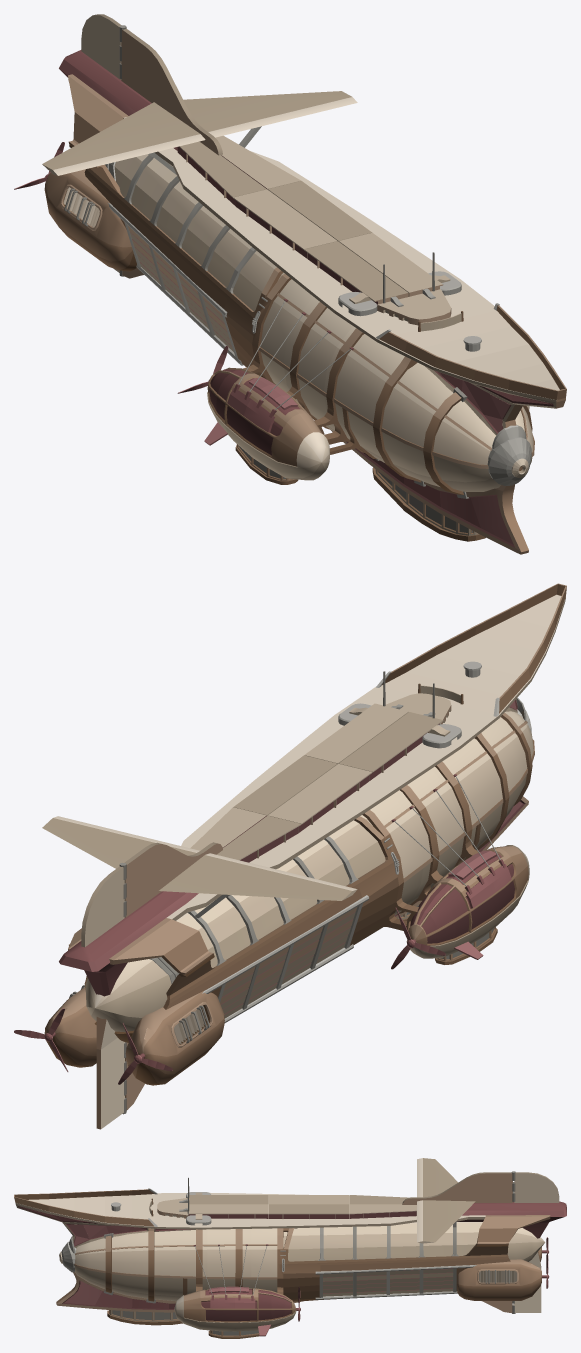
3 views of the same model, one above another, from view 1: azimuth 30°, elevation 25°; view 2: azimuth 150°, elevation 25°; view 3: azimuth 270°, elevation 25° (orthographic). The views are drawn at different scales.
Visible parts, largest first — view 1: polySurface315, polySurface404, pCube155, polySurface274, polySurface407, polySurface249, polySurface248, polySurface418, polySurface461, pCube158, polySurface406, polySurface423 (+8 smaller); view 2: polySurface315, polySurface404, polySurface274, pCube155, polySurface407, polySurface249, pCube158, polySurface248, polySurface461, polySurface423, polySurface406, polySurface424 (+4 smaller); view 3: polySurface315, polySurface274, polySurface404, pCube155, polySurface407, pCube158, polySurface248, polySurface249, polySurface434, polySurface418, polySurface406, polySurface423 (+10 smaller).
Boxes of the visible parts, x1,y1,x2,y2 form: polySurface315: [114, 154, 533, 491]; polySurface404: [123, 117, 565, 435]; pCube155: [177, 135, 443, 304]; polySurface274: [68, 74, 532, 494]; polySurface407: [177, 299, 529, 484]; polySurface249: [42, 91, 357, 175]; polySurface248: [81, 14, 222, 155]; polySurface418: [331, 430, 528, 554]; polySurface461: [44, 169, 136, 271]; pCube158: [107, 202, 243, 365]; polySurface406: [376, 303, 566, 399]; polySurface423: [59, 50, 177, 150]; polySurface315: [85, 711, 533, 1032]; polySurface404: [166, 594, 565, 920]; polySurface274: [68, 712, 532, 1042]; pCube155: [190, 703, 443, 862]; polySurface407: [391, 774, 529, 969]; polySurface249: [42, 816, 357, 900]; pCube158: [202, 895, 369, 1022]; polySurface248: [81, 842, 222, 947]; polySurface461: [125, 991, 224, 1085]; polySurface423: [59, 891, 198, 996]; polySurface406: [376, 583, 566, 716]; polySurface424: [96, 1017, 144, 1129]; polySurface315: [75, 1222, 545, 1301]; polySurface274: [105, 1215, 550, 1301]; polySurface404: [15, 1192, 485, 1248]; pCube155: [188, 1195, 416, 1218]; polySurface407: [174, 1244, 300, 1338]; pCube158: [315, 1265, 476, 1299]; polySurface248: [402, 1172, 559, 1204]; polySurface249: [417, 1158, 475, 1243]; polySurface434: [457, 1259, 541, 1300]; polySurface418: [56, 1272, 302, 1312]; polySurface406: [14, 1188, 157, 1226]; polySurface423: [457, 1201, 566, 1238].
Bounding box in the file's own units: 4.23 × 3.52 × 11.89.
